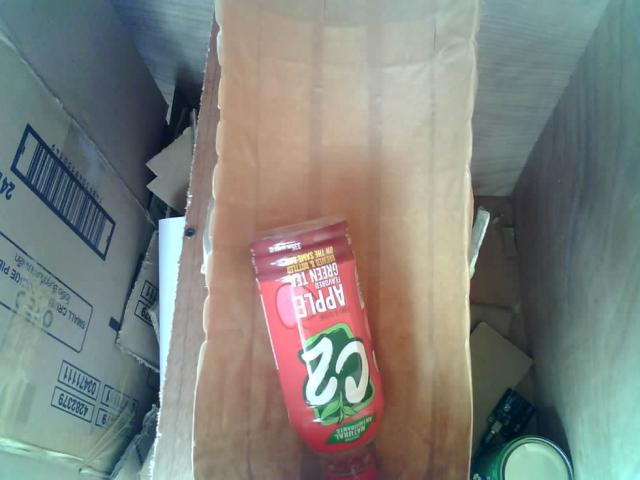small_bottle: (237, 219, 395, 480)
